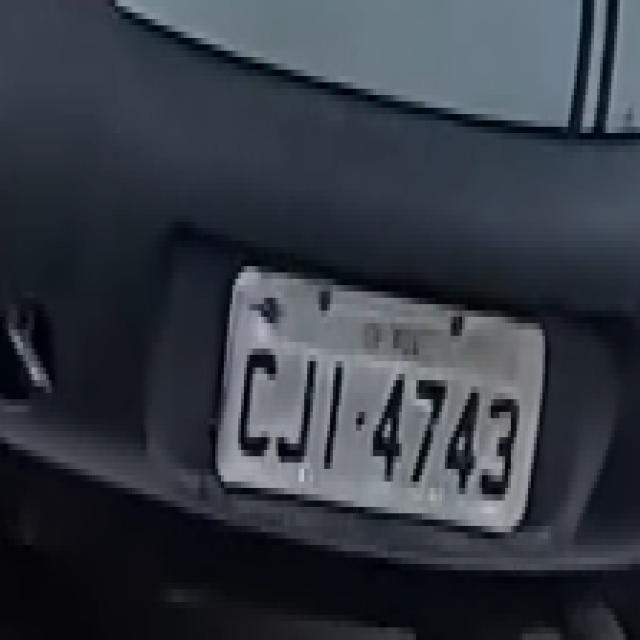Placa_mercosul_carro: (216, 264, 546, 535)
